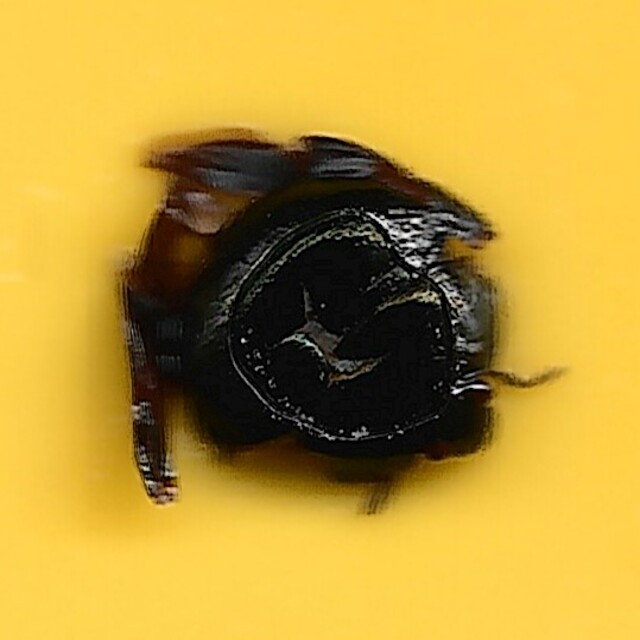Coleoptera: (119, 122, 521, 518)
